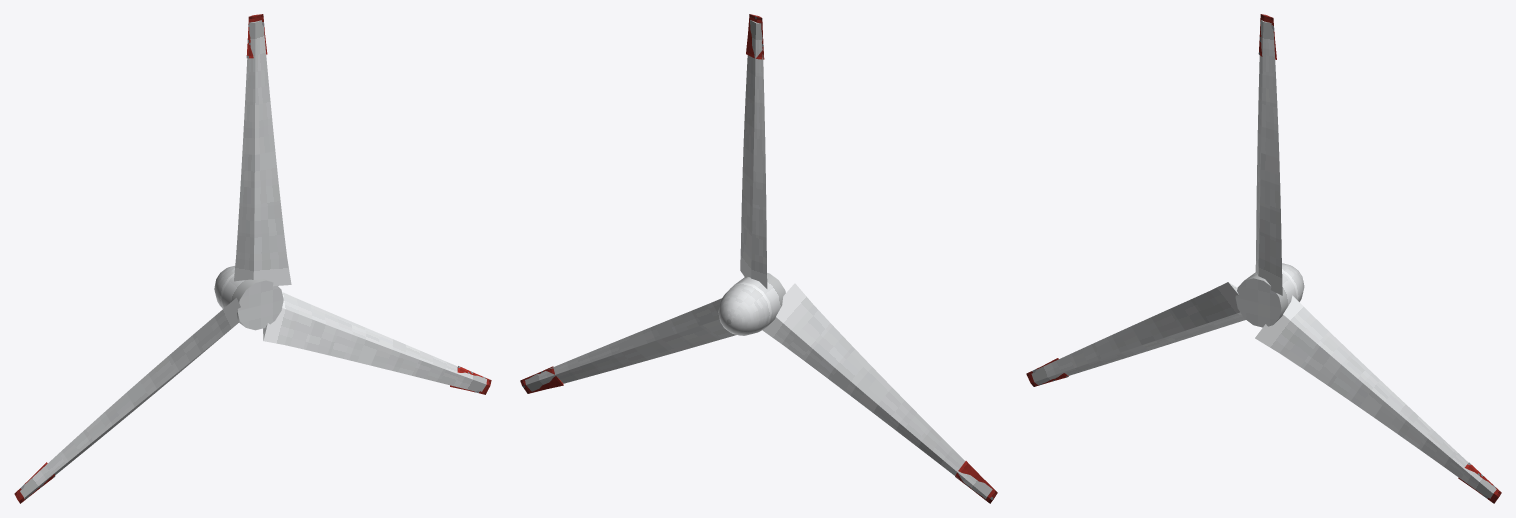
The model's file is windmill_rotor.obj.
3 views of the same model, side by side, from view 1: azimuth 30°, elevation 25°; view 2: azimuth 150°, elevation 25°; view 3: azimuth 330°, elevation 25° (orthographic).
Bounding box in the file's own units: 2.47 × 2.15 × 0.3496.
